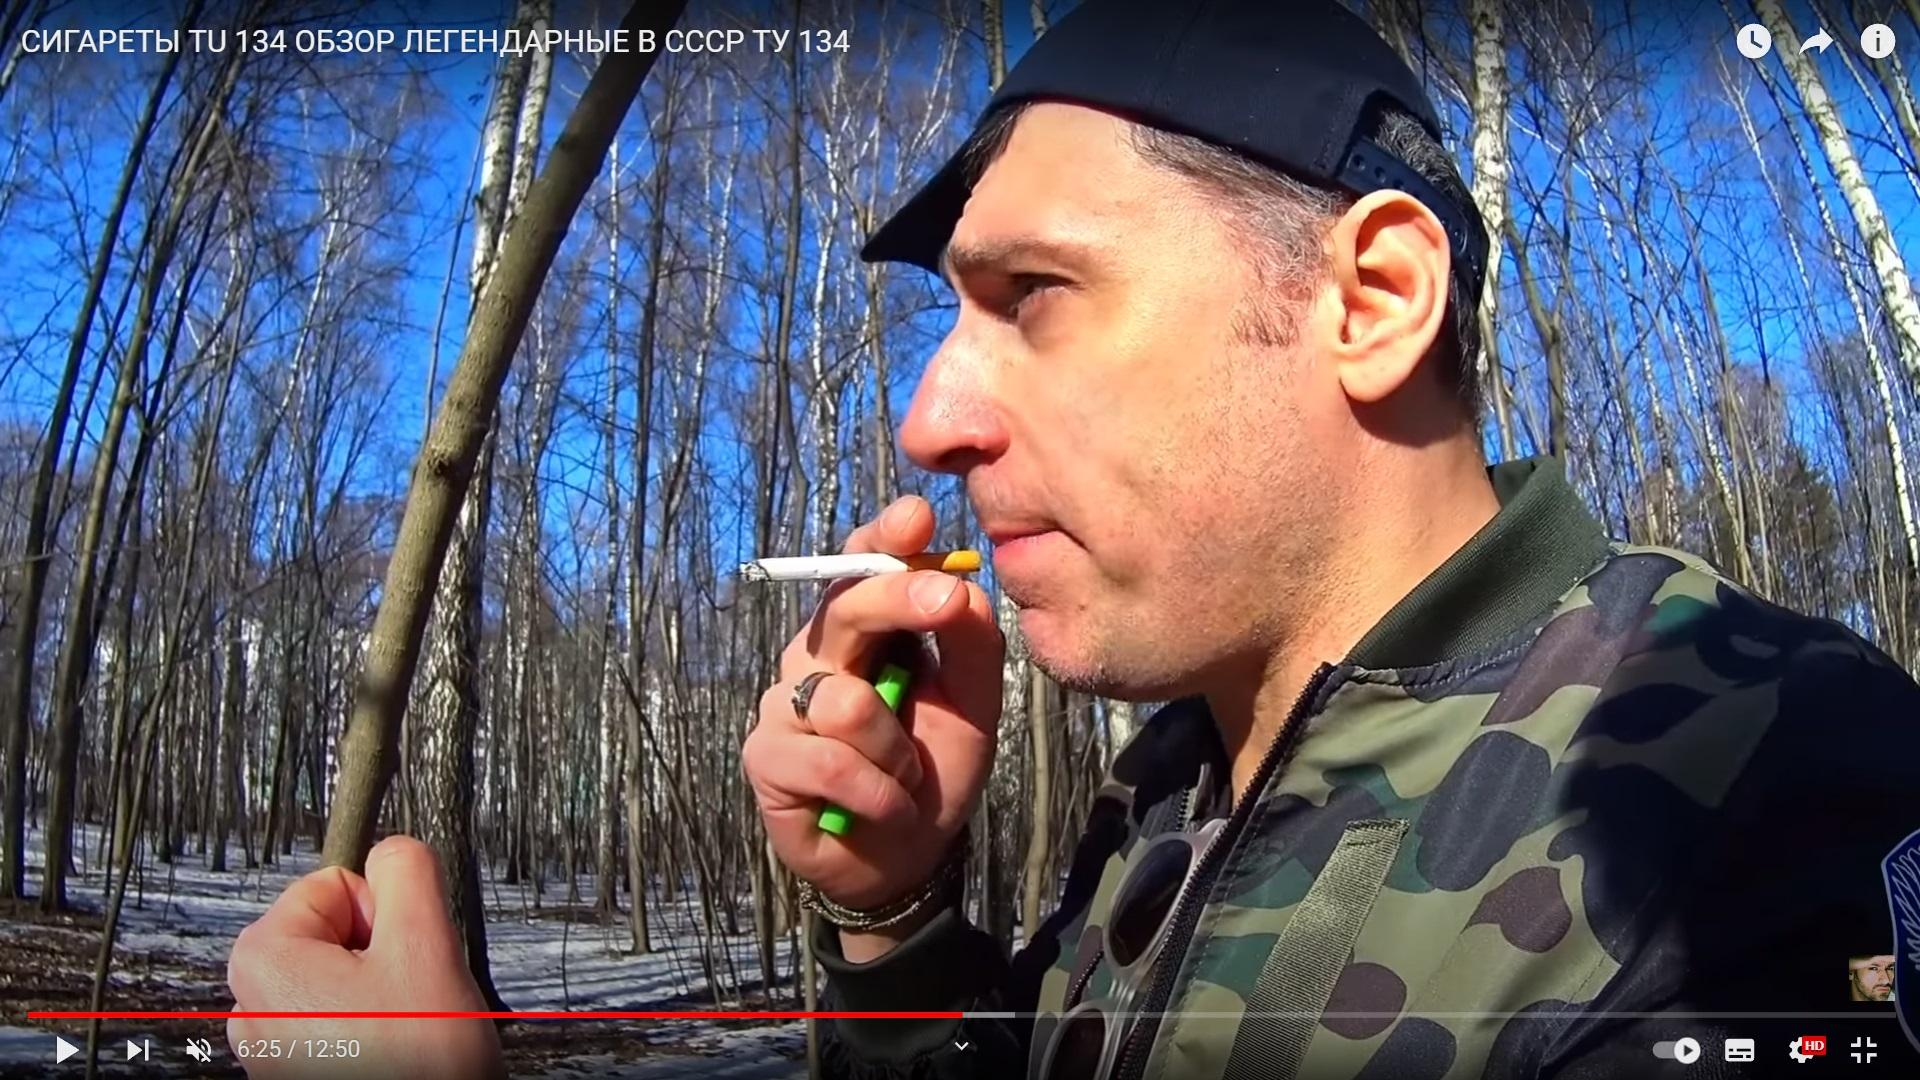cigarette: (742, 550, 982, 583)
